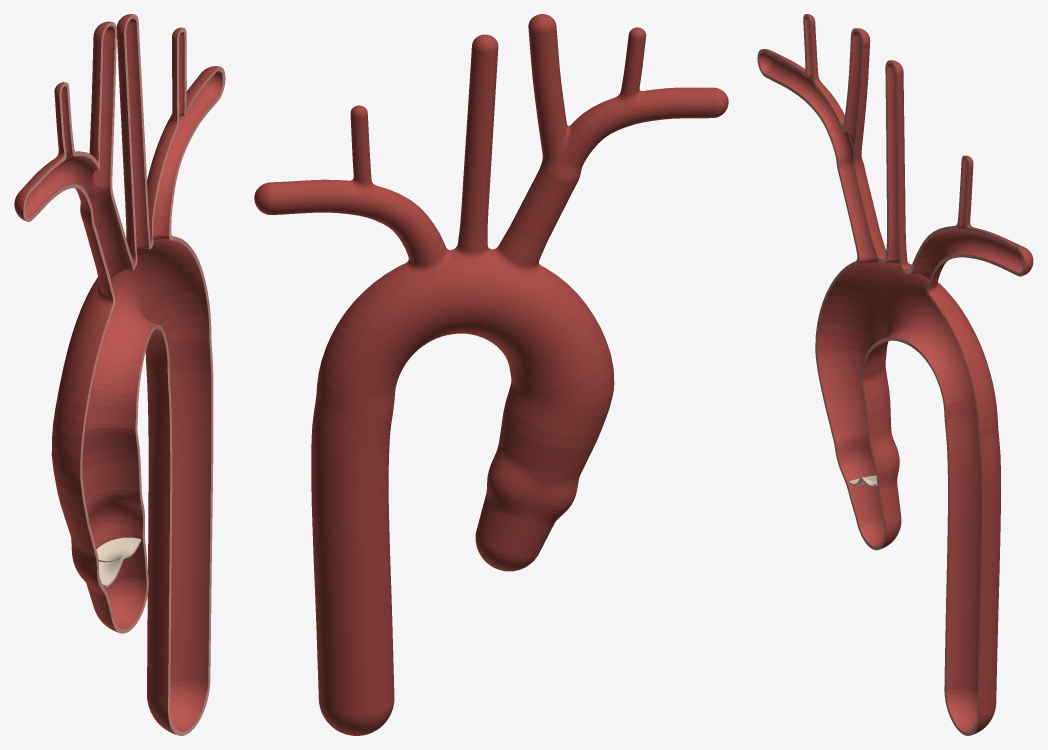
The model's file is arch.glb.
3 views of the same model, side by side, from view 1: azimuth 30°, elevation 25°; view 2: azimuth 150°, elevation 25°; view 3: azimuth 270°, elevation 25° (orthographic). The views are drawn at different scales.
Parts seen in each view (by area): view 1: Wall, Valve; view 2: Wall; view 3: Wall.
Part boxes in pixels (left/top/right/bottom): Wall: left=14, top=14, right=225, bottom=735; Valve: left=96, top=537, right=141, bottom=587; Wall: left=254, top=14, right=728, bottom=735; Wall: left=757, top=14, right=1033, bottom=735.
Bounding box in the file's own units: 141 × 289 × 112.
